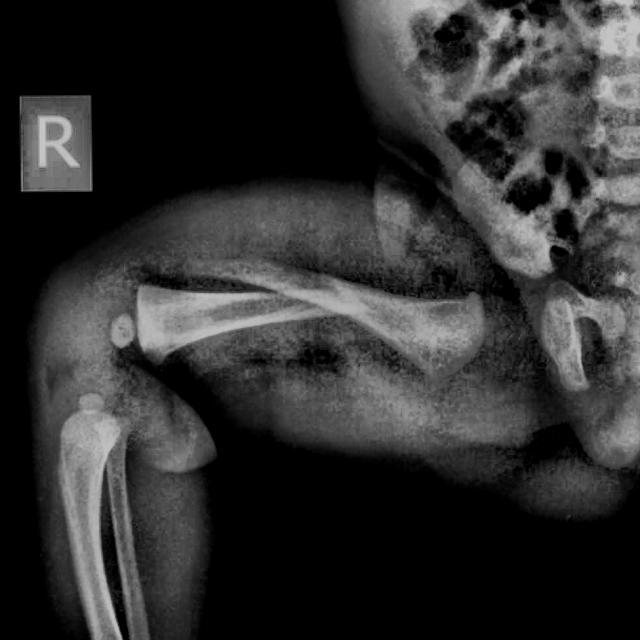fracture: (190, 255, 371, 318)
